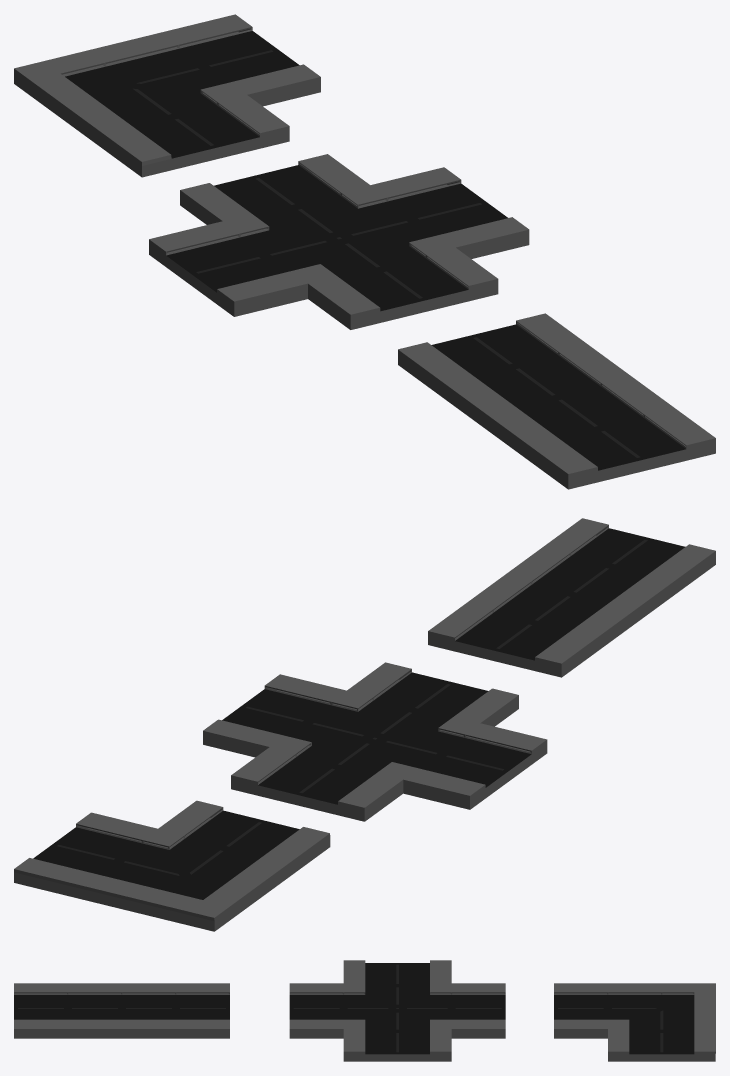
File: RoadSet.fbx
3 views of the same model, one above another, from view 1: azimuth 30°, elevation 25°; view 2: azimuth 150°, elevation 25°; view 3: azimuth 270°, elevation 25° (orthographic). The views are drawn at different scales.
Parts seen in each view (by area): view 1: RoadX, RoadAngle, RoadForward; view 2: RoadX, RoadAngle, RoadForward; view 3: RoadX, RoadForward, RoadAngle.
Boxes of the visible parts, box(x1,y1,x2,y2) form: RoadX: box(149, 154, 529, 329); RoadAngle: box(14, 14, 320, 177); RoadForward: box(398, 313, 715, 489); RoadX: box(203, 662, 547, 821); RoadAngle: box(14, 800, 330, 931); RoadForward: box(428, 518, 715, 677); RoadX: box(289, 960, 505, 1061); RoadForward: box(14, 983, 229, 1038); RoadAngle: box(554, 983, 715, 1061).
Bounding box in the file's own units: 4000 × 200 × 13006.
Materials: 3 (3 with a texture image).
